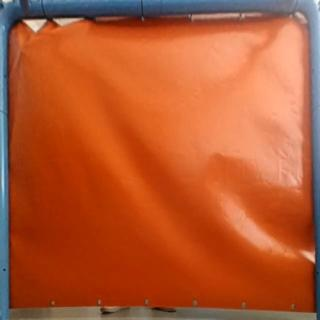Hit-hRxx: (15, 44, 32, 60)
